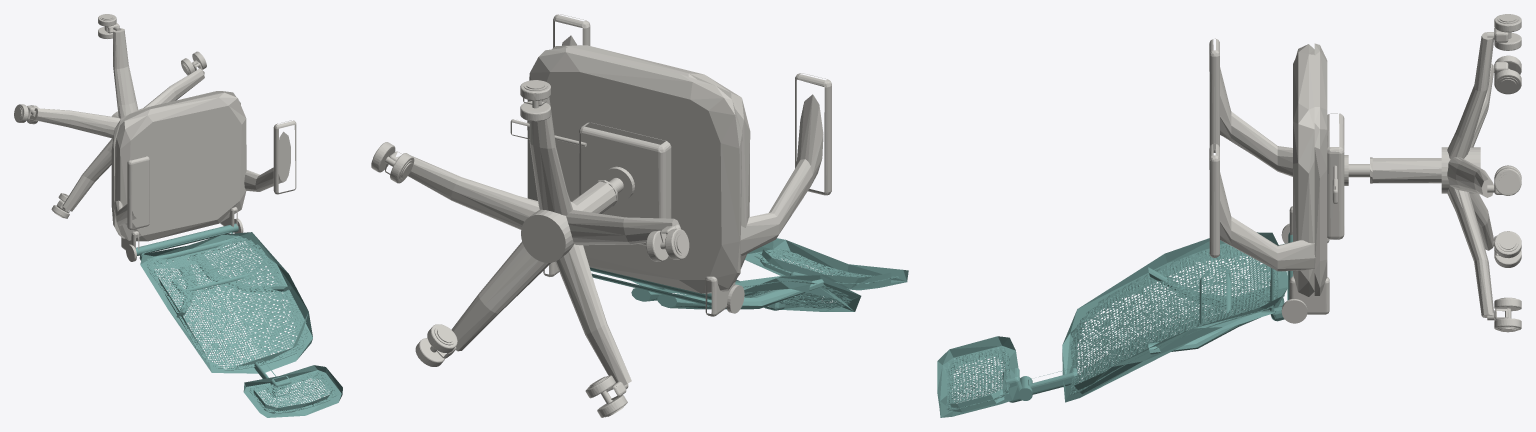
The model's file is ch03b_articraft.glb.
3 renders of one model, left to right at view 1: azimuth 30°, elevation 25°; view 2: azimuth 150°, elevation 25°; view 3: azimuth 270°, elevation 25°, orthographic. The views are drawn at different scales.
Parts seen in each view (by area): view 1: world; view 2: world; view 3: world.
Part boxes in pixels (left/top/right/bottom): world: left=14, top=14, right=342, bottom=417; world: left=371, top=14, right=908, bottom=417; world: left=937, top=14, right=1521, bottom=417.
Bounding box in the file's own units: 0.7174 × 0.9446 × 1.32.
